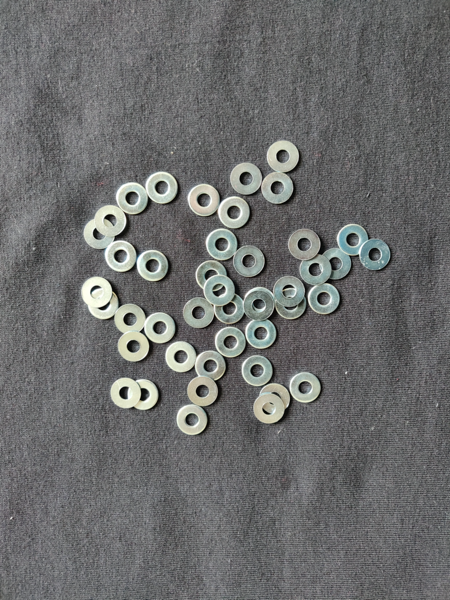circle: (267, 140, 301, 173), (145, 171, 178, 205), (262, 171, 294, 204), (276, 288, 308, 321), (116, 182, 148, 215), (105, 240, 138, 272), (231, 163, 263, 195), (360, 239, 392, 271), (218, 197, 250, 229), (273, 276, 305, 308), (188, 184, 220, 216), (137, 250, 169, 282), (83, 218, 115, 250), (310, 282, 341, 315), (289, 373, 322, 404), (338, 224, 369, 256), (289, 229, 321, 260), (321, 248, 352, 280), (234, 245, 265, 277), (206, 229, 237, 261), (195, 351, 226, 383), (165, 342, 196, 374), (128, 380, 159, 412), (88, 289, 119, 321), (95, 205, 126, 237), (300, 255, 333, 285), (196, 261, 227, 292), (215, 327, 246, 358), (183, 298, 214, 329), (118, 332, 149, 363), (81, 277, 112, 308), (204, 275, 234, 307), (176, 406, 208, 436), (111, 378, 141, 410), (259, 384, 290, 414), (214, 294, 245, 324), (246, 287, 276, 318), (242, 356, 273, 386), (187, 377, 218, 407), (145, 314, 176, 344), (115, 304, 146, 334), (254, 395, 284, 425), (244, 291, 274, 321), (246, 320, 276, 350)
